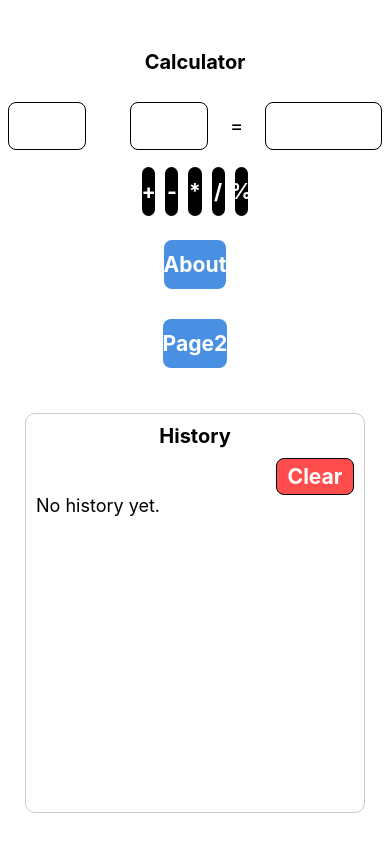
Test case: ทดสอบหน้าจอ App หลัก › ควรคำนวณและแสดงผลลัพธ์ พร้อมบันทึกประวัติเมื่อกดปุ่ม +
The image size is (390, 844).
จำลองการพิมพ์ตัวเลข 10 และ 20 ลงในช่อง
Type "10" into the 1st field at (47, 126), box [8,102,86,150]
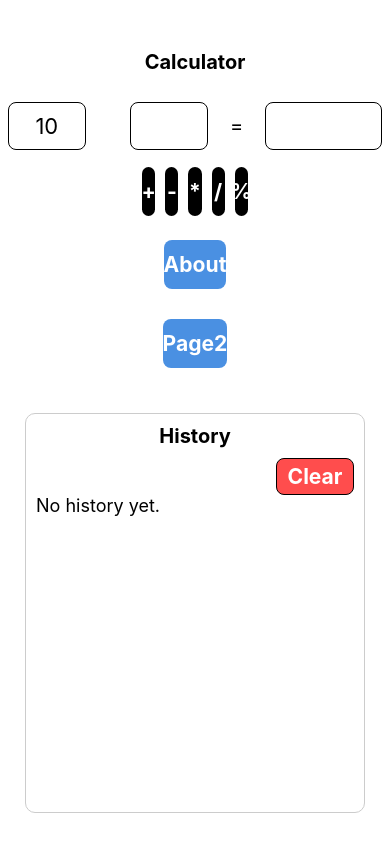
Type "20" into the 2nd field at (169, 126), box [130,102,208,150]
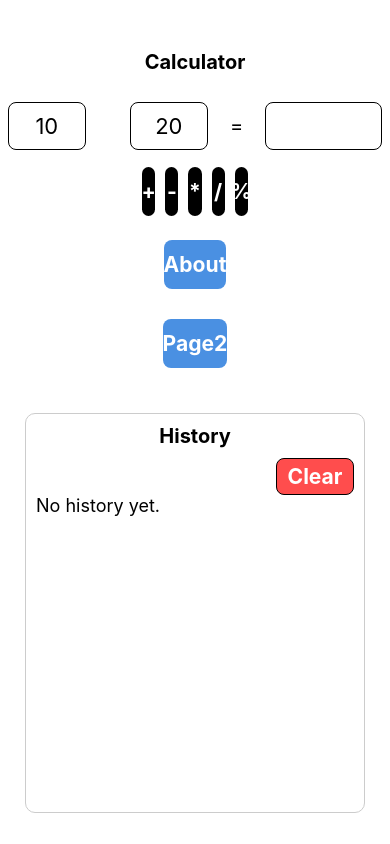
ค้นหาปุ่ม '+' และจำลองการกด
Click the text "+" at (149, 192), box [142,179,156,204]
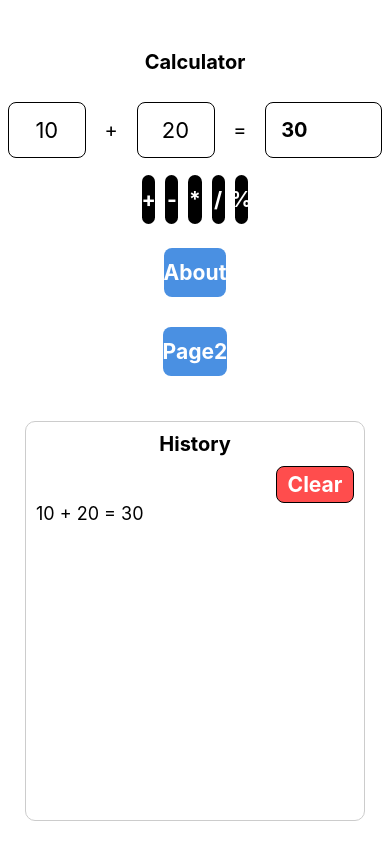
Result: the text "10 + 20 = 30" is shown at [36,503,144,524]
